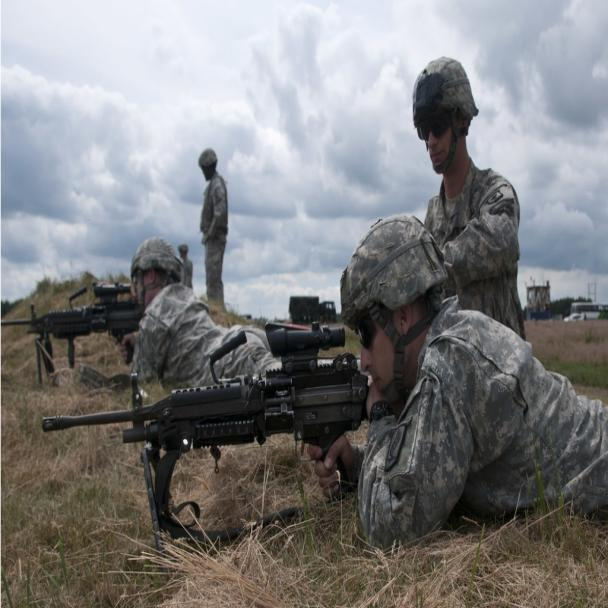Gun: (31, 292, 372, 464), (0, 252, 131, 373)
Hand: (301, 428, 371, 504)
